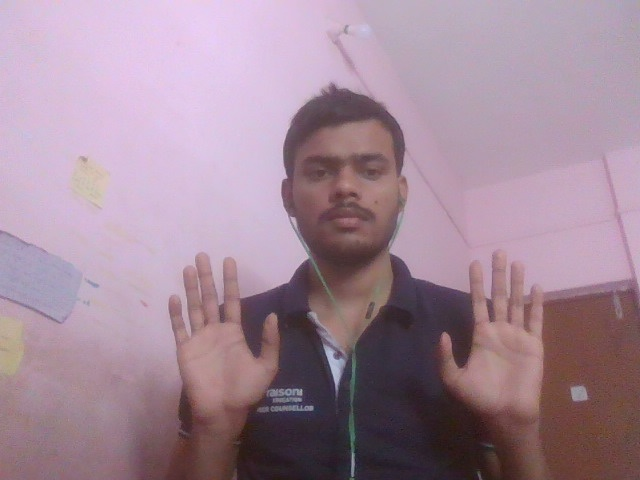allDone: (91, 227, 575, 417)
